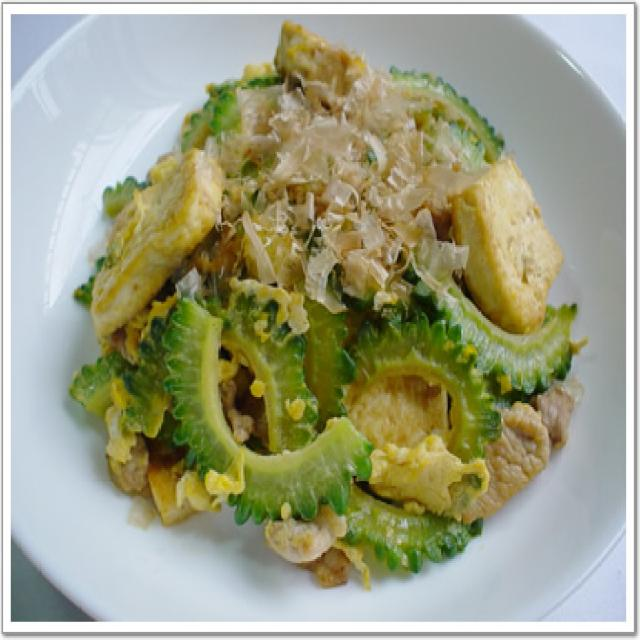熟制海鲜: (6, 10, 628, 622)
